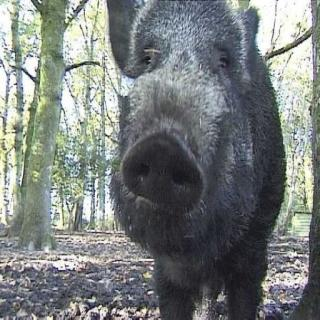Pig: (71, 0, 309, 312)
